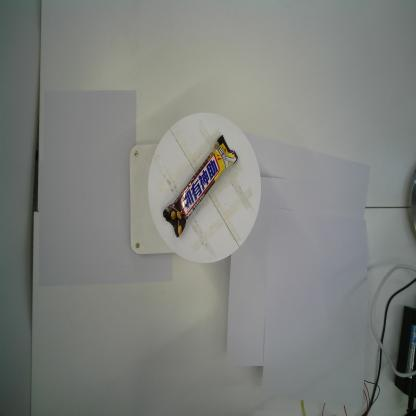Chocolate: (161, 134, 239, 238)
